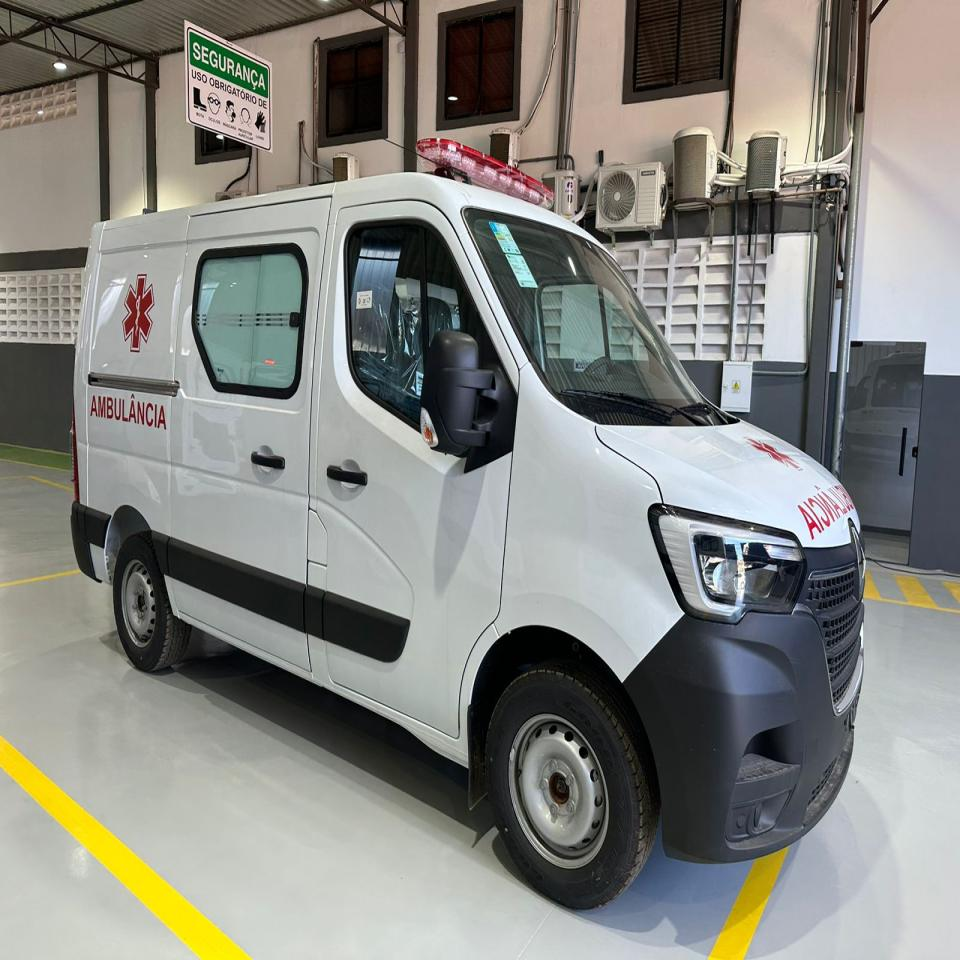bombeiro: (69, 137, 868, 911)
